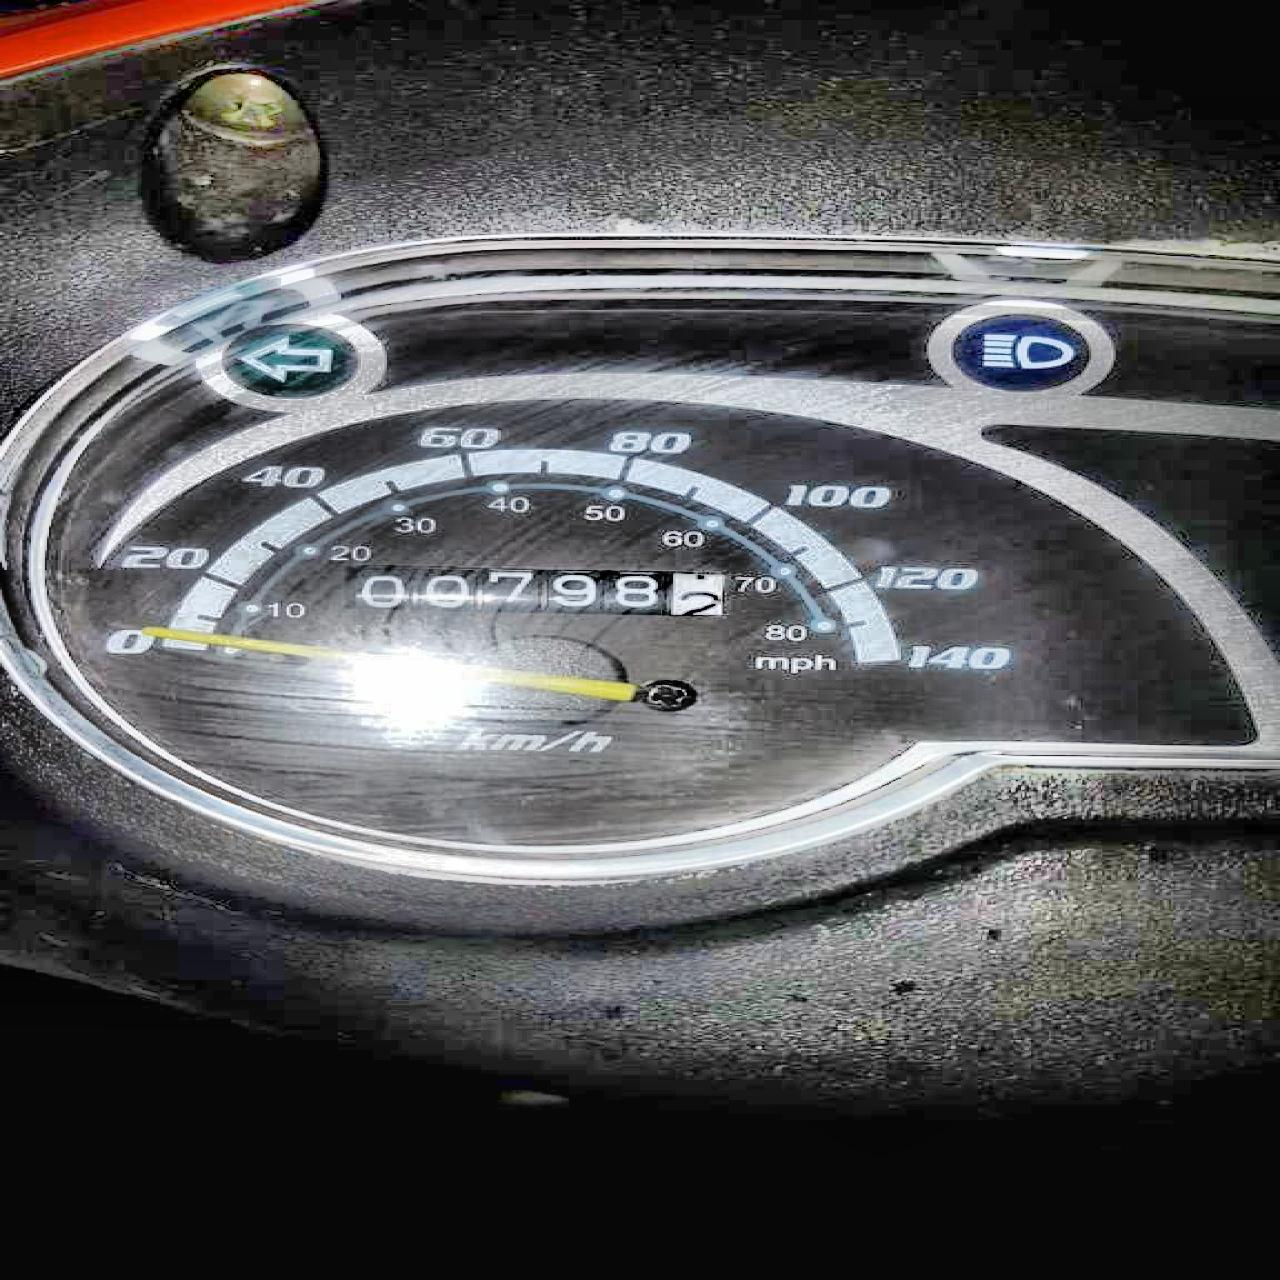0: (358, 573, 404, 606), (422, 573, 467, 606)
2: (678, 590, 719, 619)
7: (486, 571, 531, 601)
8: (613, 573, 658, 606)
9: (549, 573, 595, 606)
odometer: (338, 561, 727, 618)
